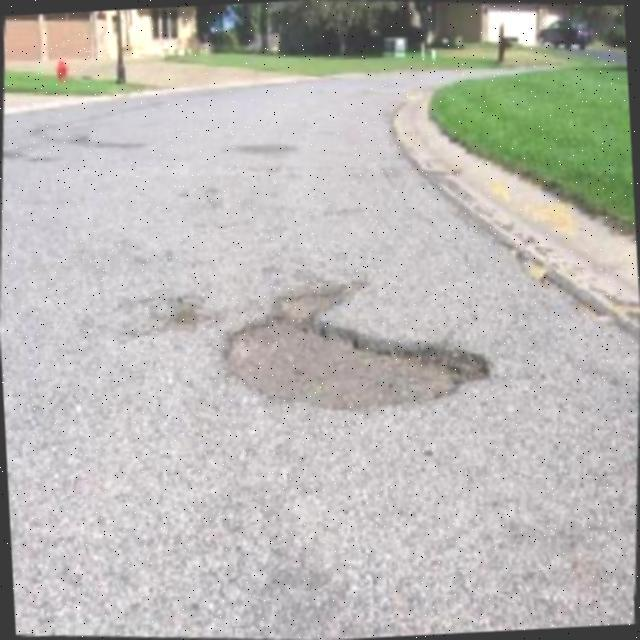Pothole: (223, 283, 492, 410)
